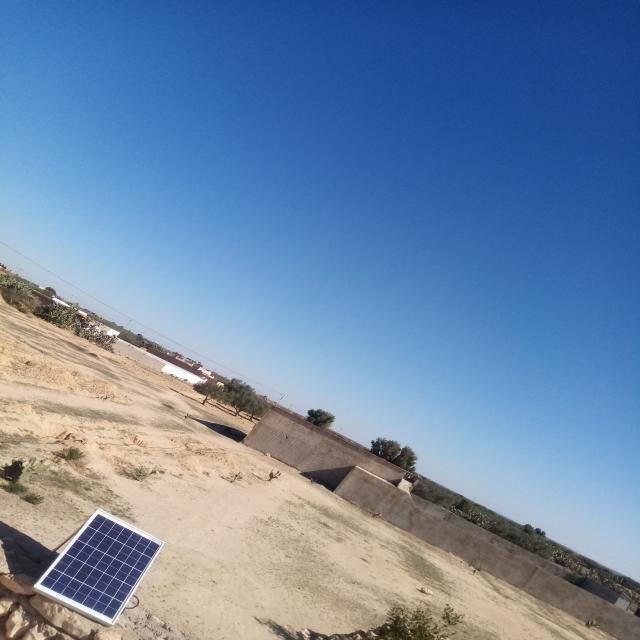no faulty: (34, 508, 164, 624)
